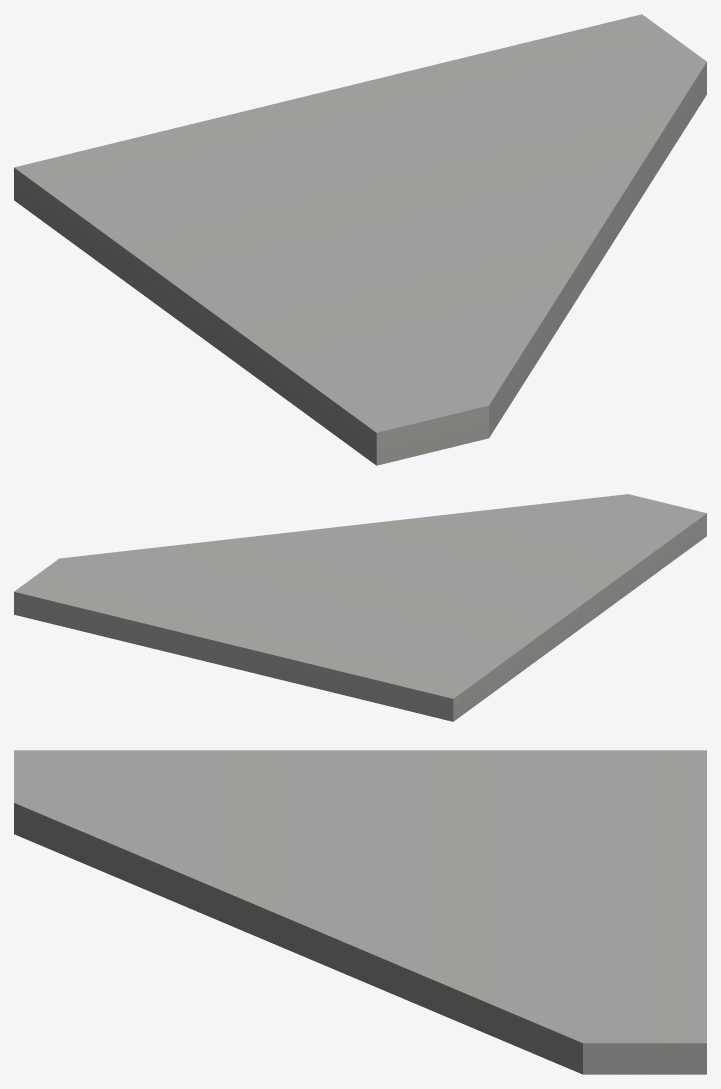
Rendered from Walkway_corner_C.fbx.
The picture shows the model from 3 angles, top to bottom: view 1: azimuth 30°, elevation 25°; view 2: azimuth 150°, elevation 25°; view 3: azimuth 270°, elevation 25°; orthographic projection. The views are drawn at different scales.
Visible parts, largest first — view 1: Walkway_corner_C; view 2: Walkway_corner_C; view 3: Walkway_corner_C.
Boxes of the visible parts, x1,y1,x2,y2 form: Walkway_corner_C: (14,14,706,465); Walkway_corner_C: (14,494,706,721); Walkway_corner_C: (14,750,706,1074).
Size of the model in its own units: 200 by 10 by 200.
